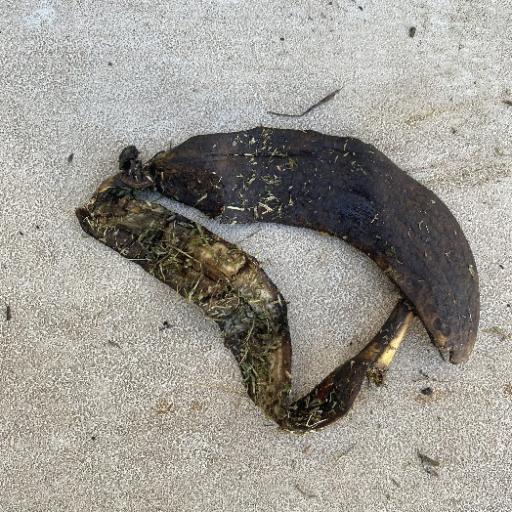Waste: (74, 123, 481, 433), (73, 170, 294, 429)
